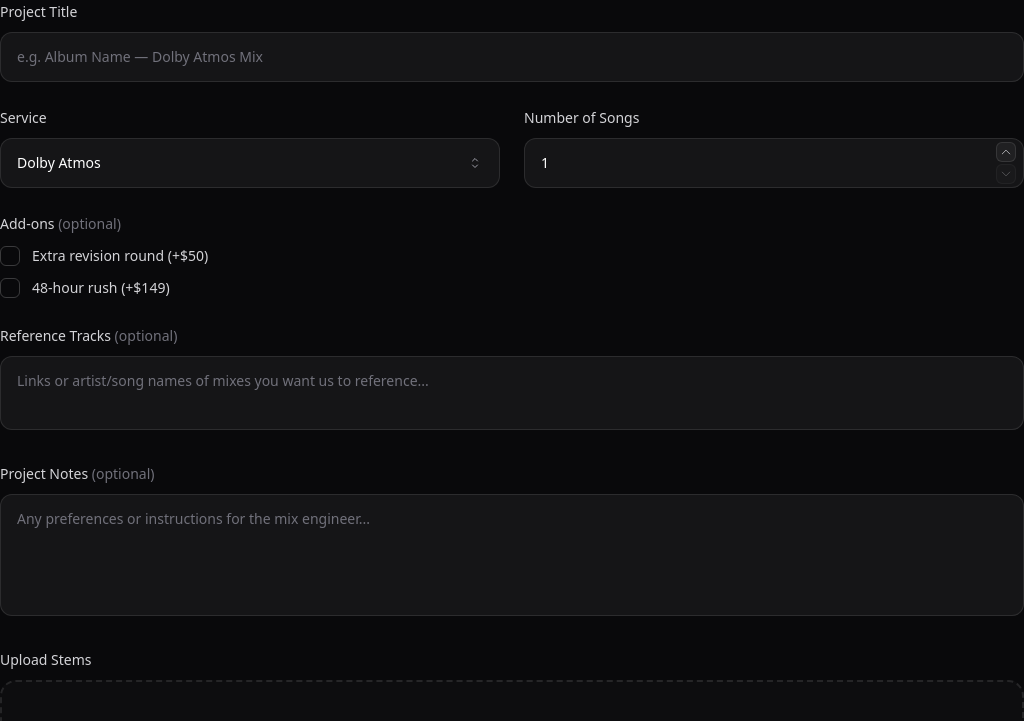
Test case: NewProjectForm › renders a live quote that reflects the song count and bulk tier
Replace the text in the number field labelled "Number of Songs" with "5" at {"x": 774, "y": 163}, box [524,138,1023,188]
(page scrolled)
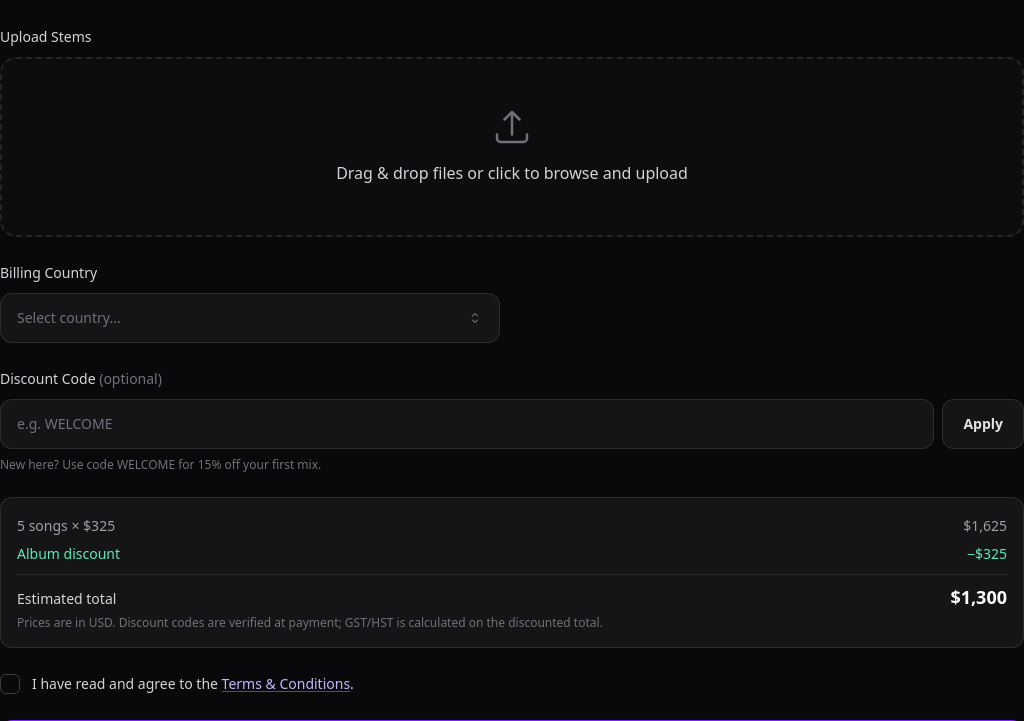
Now the element with test id "live-quote" shows "5 songs × $325", box [0,497,1023,648]
Now the element with test id "live-quote" shows "$1,625", box [963,516,1007,535]
Now the element with test id "live-quote" shows "Album discount", box [17,544,120,563]
